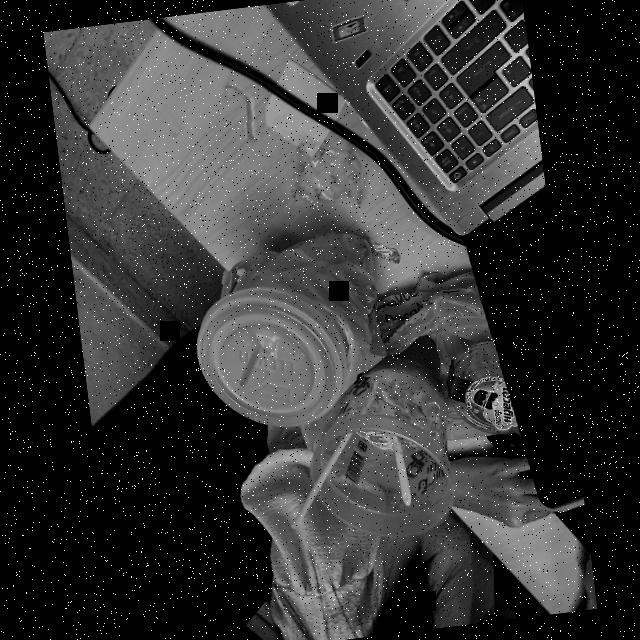plastic_bag: (283, 266, 516, 454), (215, 224, 395, 404)
plastic_cup: (293, 336, 466, 553), (438, 334, 522, 442)
plastic_cup_lid: (186, 273, 357, 445)
scrap_paper: (253, 52, 355, 164)
scrap_plastic: (279, 128, 372, 220), (356, 228, 406, 272)
